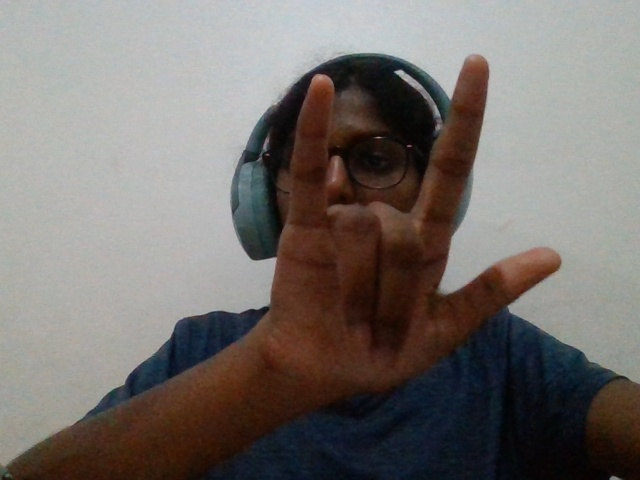I Love You: (243, 41, 581, 438)
